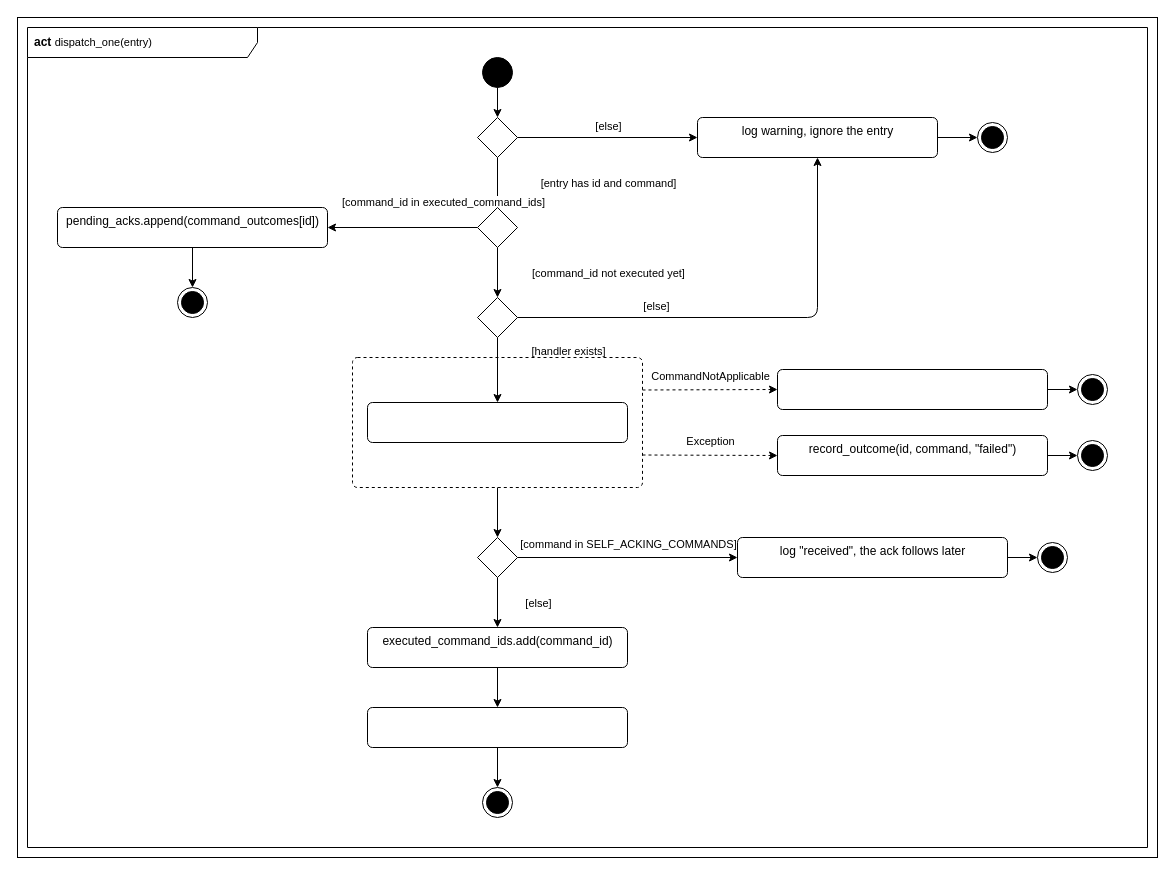
This 1175x875 diagram has some shape labels left out. Each missing label, with the box of its shape:
detail = handler(self, entry): (366, 402, 628, 442)
record_outcome(id, command, "not_applicable"): (776, 368, 1048, 410)
record_outcome(id, command, "success", detail): (366, 706, 628, 748)
